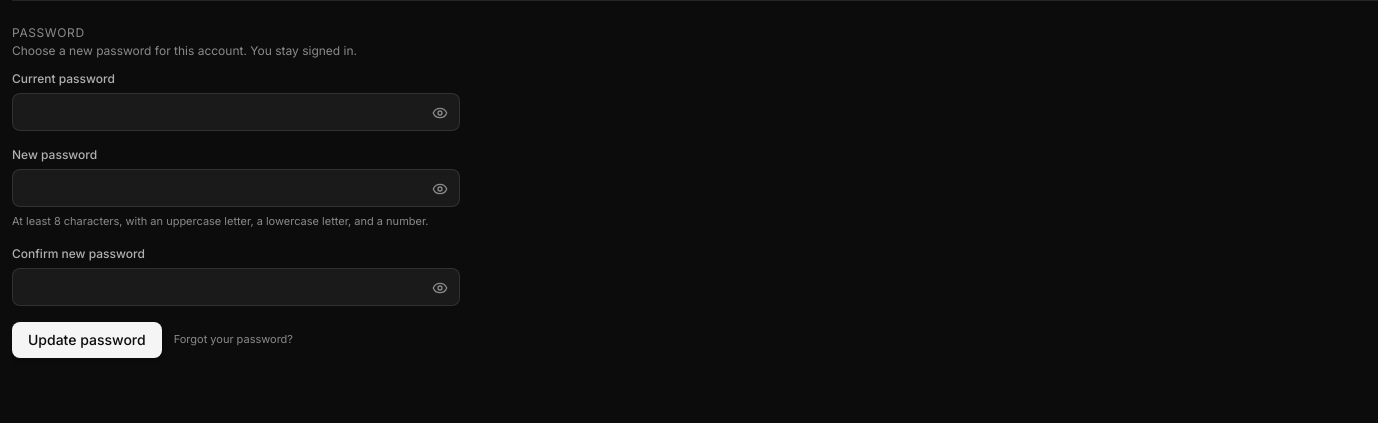
Scenario: password settings › explains a weak password before sending it
This screenshot has width=1378, height=423.
Type "short" into the password field labelled "New password".
click(236, 188); type("short")  # box [12,169,460,207]
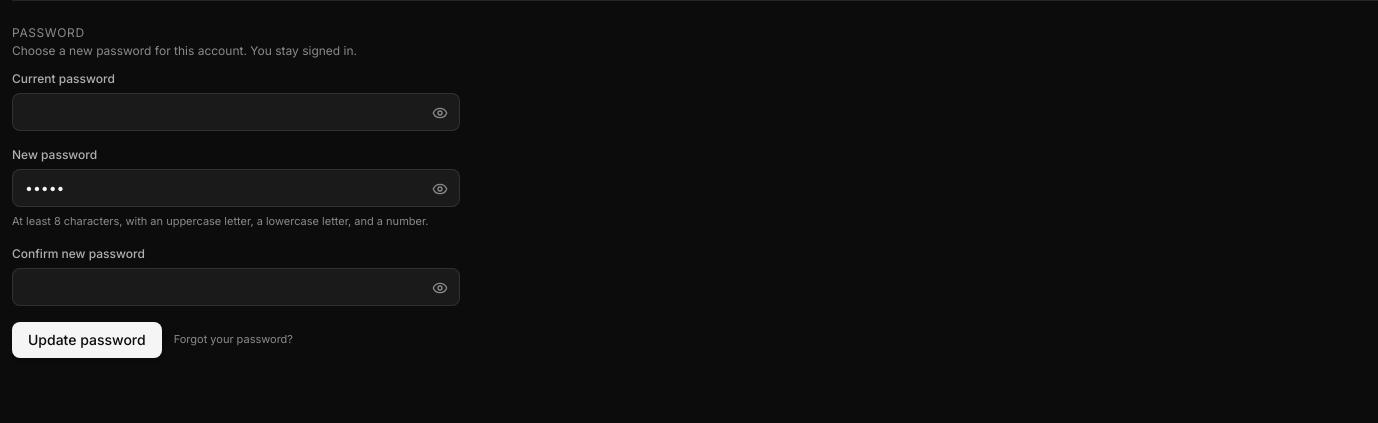
Click the button "Update password".
click(87, 340)  # box [12,322,162,358]
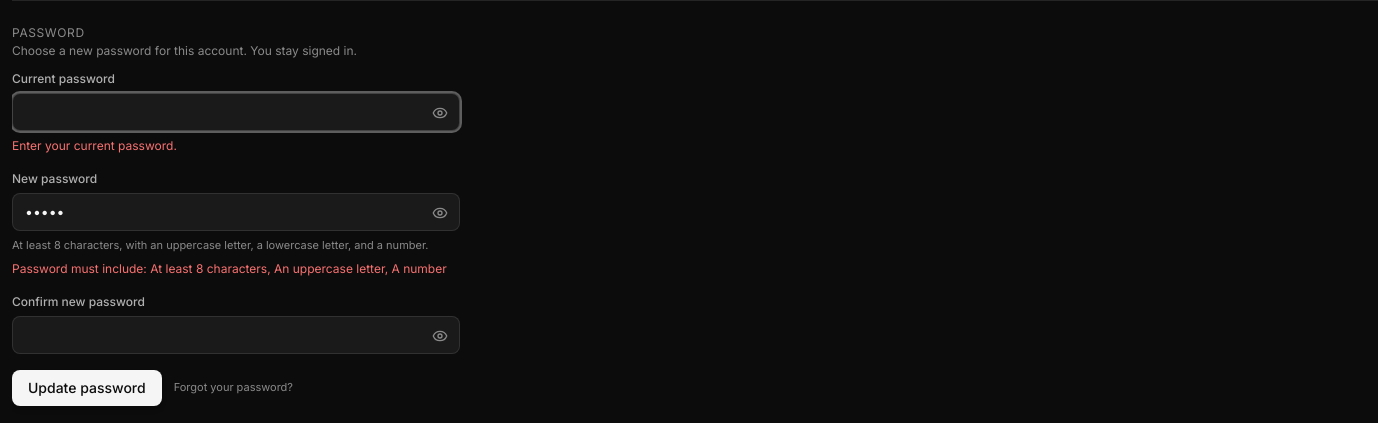
expect the text "Password must include: At least 8 characters, An uppercase letter, A number" is shown: met, box [12,260,447,276]
